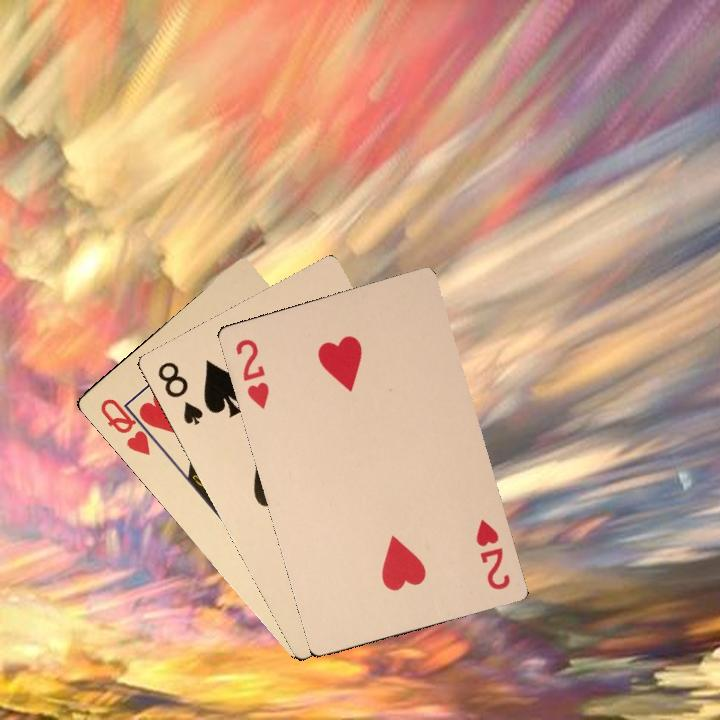2h: (471, 515, 513, 593), (231, 334, 272, 412)
8s: (152, 357, 206, 427)
Qh: (96, 394, 163, 458)
